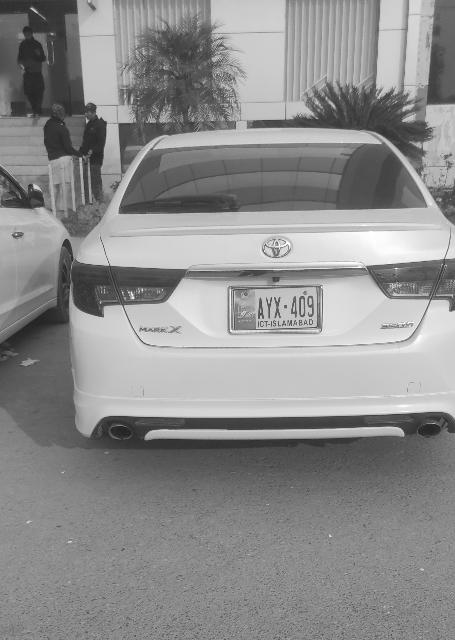Number: (256, 294, 318, 322)
